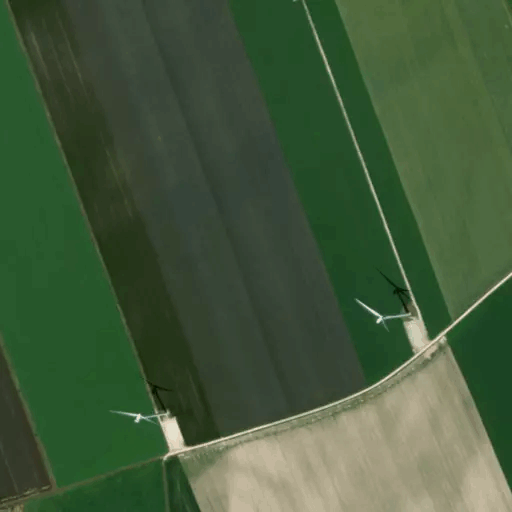wt: (351, 262, 423, 342), (102, 371, 188, 435)
